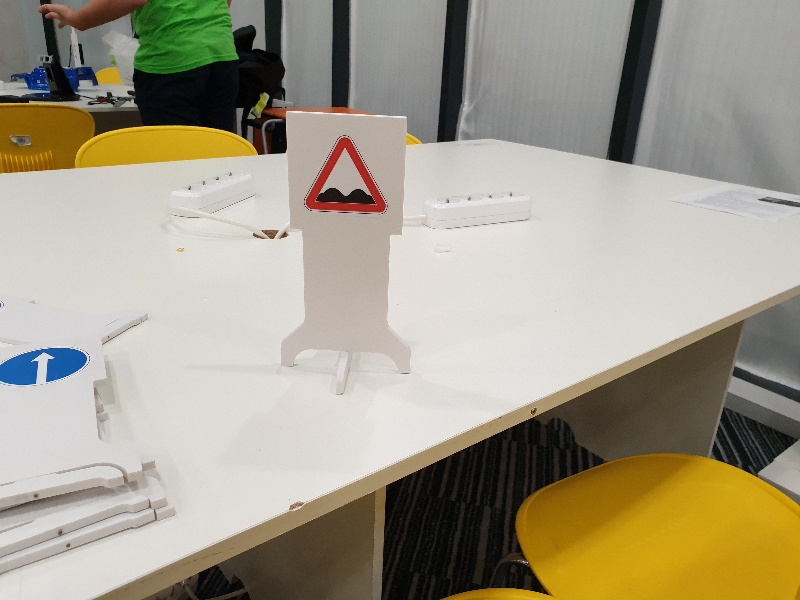Nerov: (297, 133, 395, 221)
